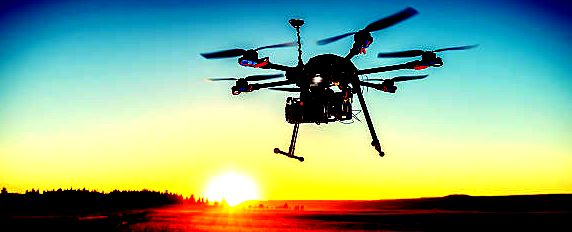Drone: (192, 4, 479, 165)
